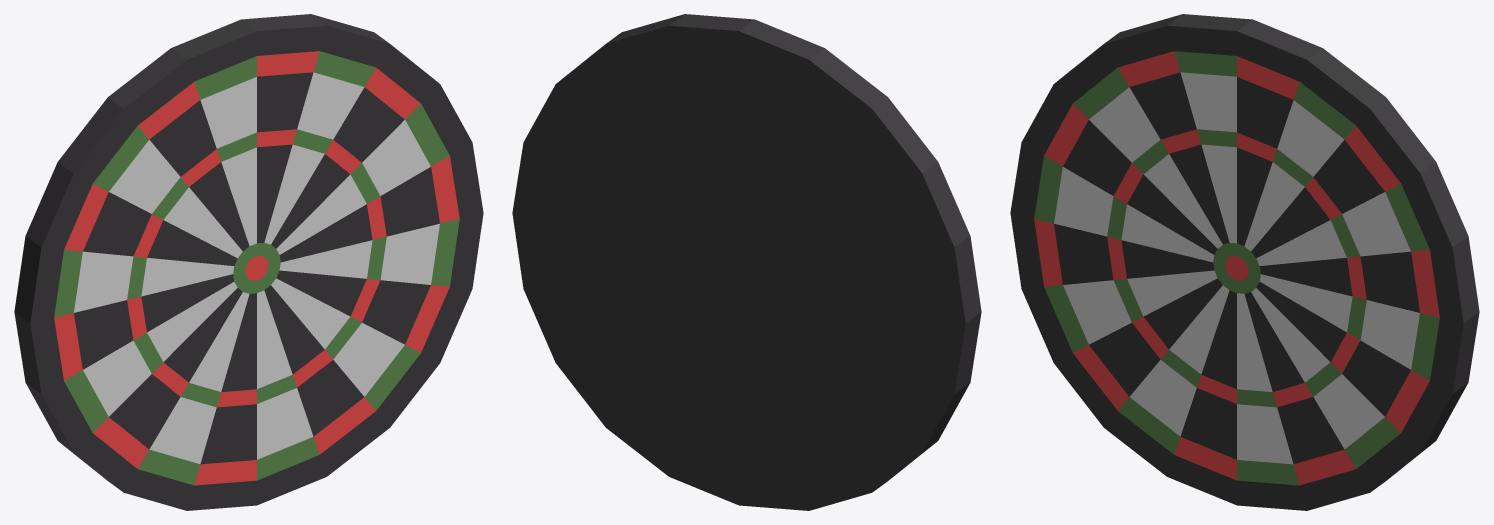
The model's file is Mesh_Room_Darts.obj.
The picture shows the model from 3 angles, left to right: view 1: azimuth 30°, elevation 25°; view 2: azimuth 150°, elevation 25°; view 3: azimuth 330°, elevation 25°; orthographic projection.
Visible parts, largest first — view 1: Mesh_Room_Darts_M_LowPolyInterior_01; view 2: Mesh_Room_Darts_M_LowPolyInterior_01; view 3: Mesh_Room_Darts_M_LowPolyInterior_01.
Boxes of the visible parts, x1,y1,x2,y2 form: Mesh_Room_Darts_M_LowPolyInterior_01: [14, 14, 483, 510]; Mesh_Room_Darts_M_LowPolyInterior_01: [512, 14, 981, 510]; Mesh_Room_Darts_M_LowPolyInterior_01: [1010, 14, 1479, 510].
Bounding box in the file's own units: 0.5532 × 0.5532 × 0.0337.
Materials: 1 (1 with a texture image).
